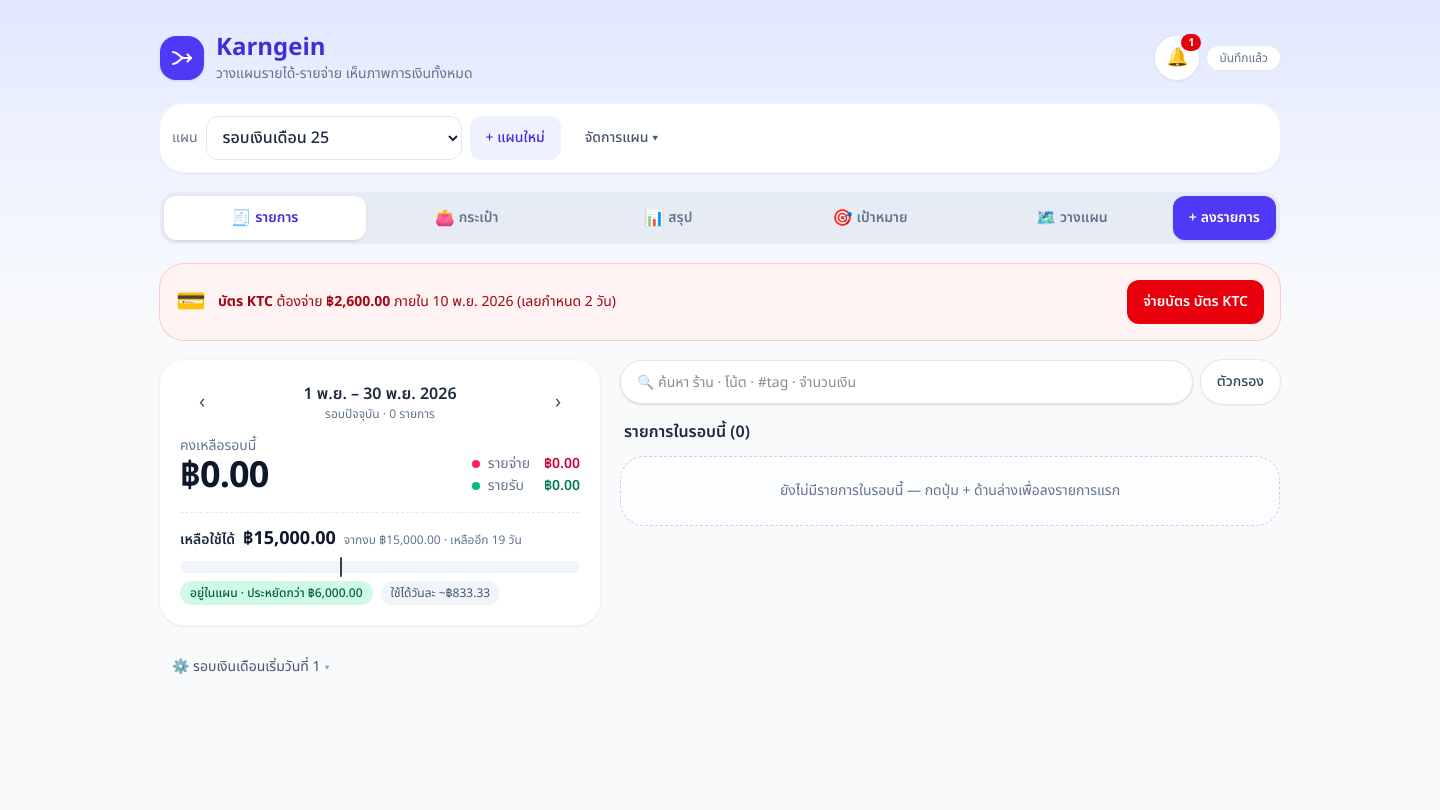
Test: CP-12.3: กระดิ่งแจ้งเตือน › บัตรเลยกำหนด → อยู่บนสุด และกด 'จ่ายบัตร' → แผ่นโอนกรอกยอดให้ → บันทึก → หายจากกระดิ่ง
This screenshot has width=1440, height=810.
Expected: the message named "รอบที่แสดง" is shown, [303, 382, 457, 406]
What coordinates should you click on to do the following:
click the button named "การแจ้งเตือน"
I would click on:
 (1177, 58)
Its box is [1155, 36, 1199, 80].
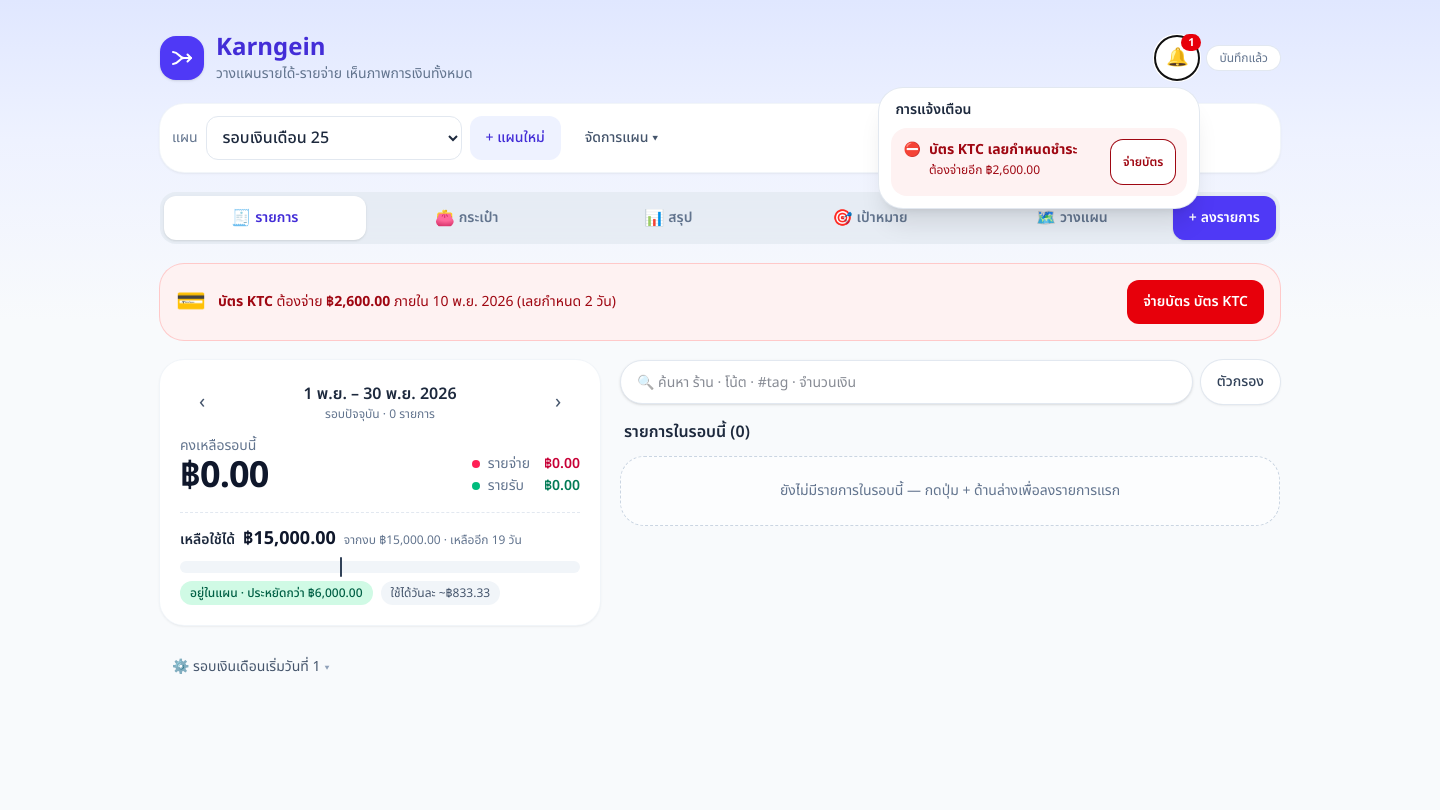
Expected: the list item shows "บัตร KTC เลยกำหนดชำระ", [929, 139, 1078, 160]
What coordinates should you click on to do the following:
click the button "จ่ายบัตร"
I would click on:
 (1143, 162)
Its box is [1111, 140, 1175, 184].
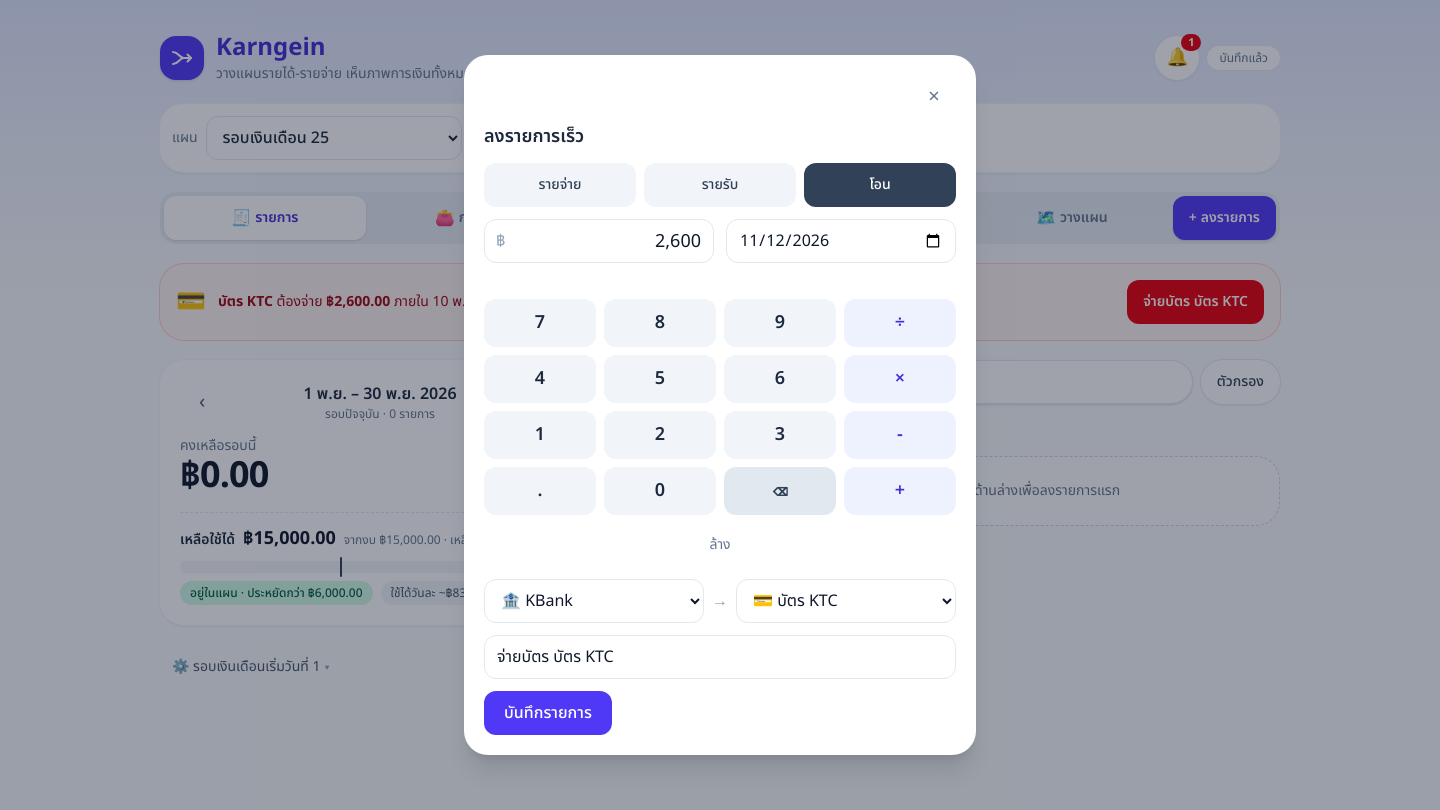
Expected: the field named "จำนวนเงินรายการ" holds "2,600", [484, 219, 714, 263]
Expected: the dropdown named "โอนเข้ากระเป๋า" shows "💳 บัตร KTC", [736, 579, 956, 623]
What coordinates should you click on to do the following:
click the button "บันทึกรายการ"
I would click on:
 (548, 713)
Its box is [484, 691, 612, 735].
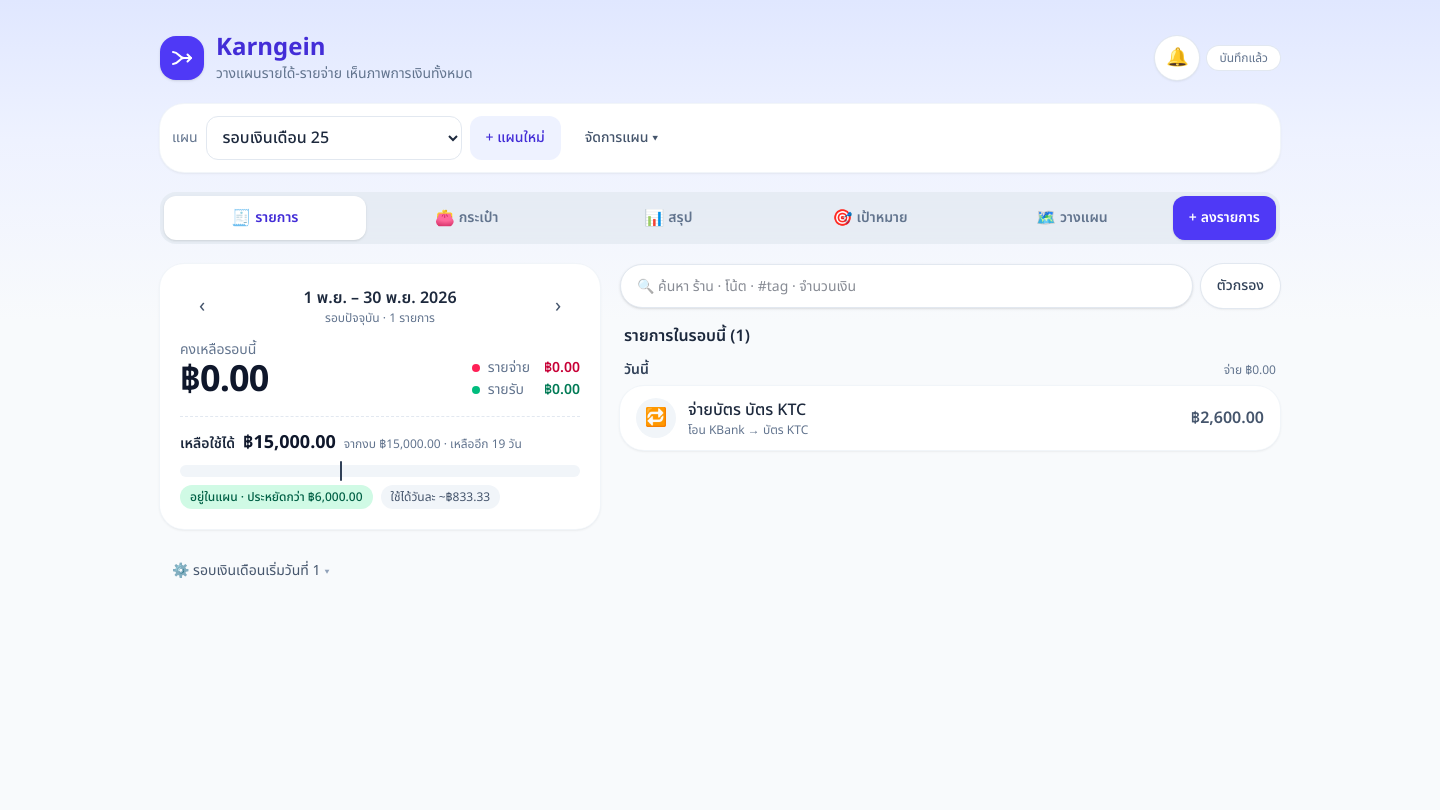
Expected: the dialog is gone
